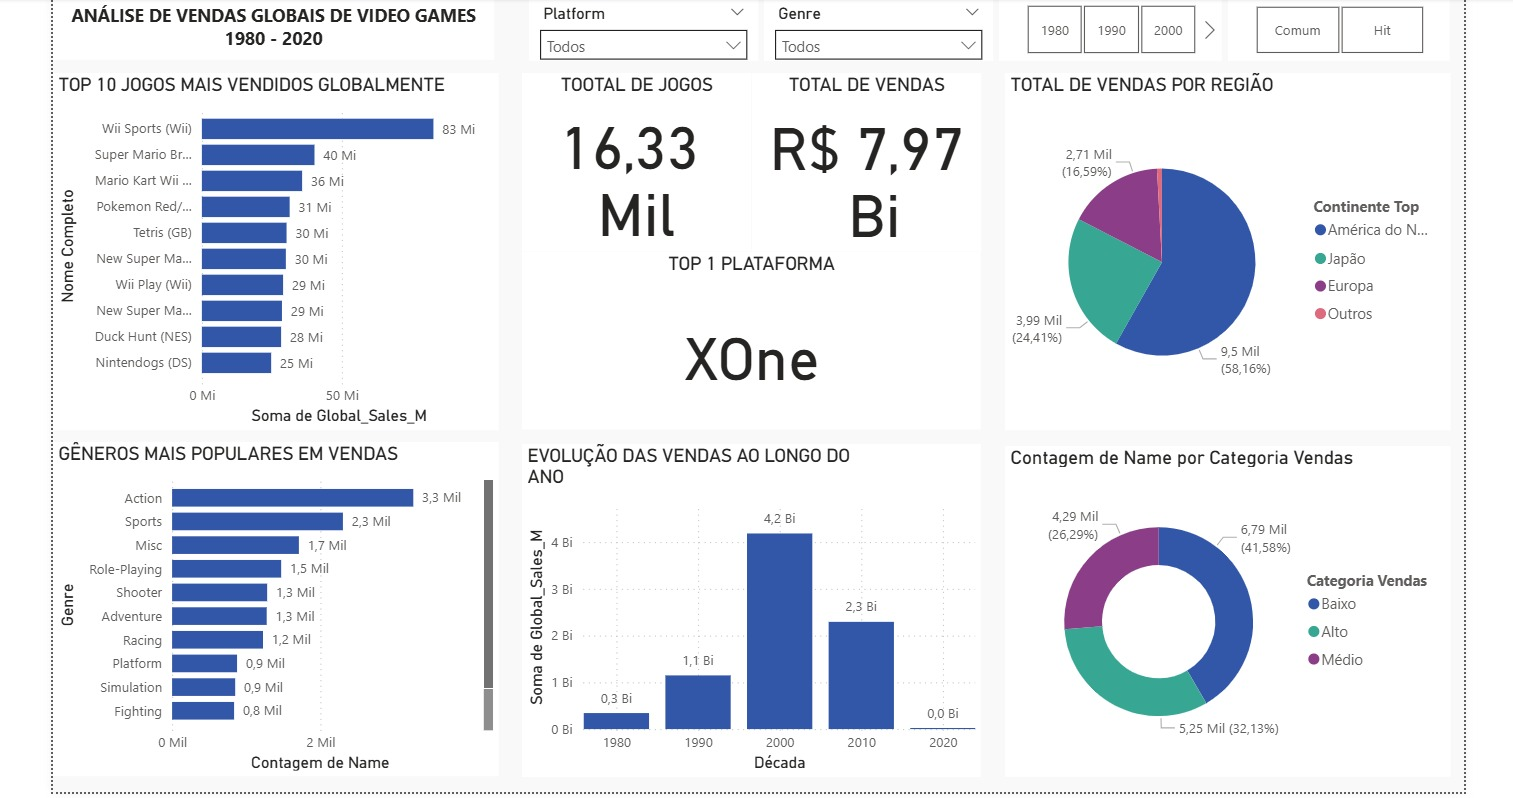

What the dashboard file says about the page in this screenshot:
{"tool":"powerbi","page":{"name":"Página 1","canvas":[1280,720],"ordinal":0},"visuals":[{"type":"barChart","title":"GÊNEROS MAIS POPULARES EM VENDAS","fields":{"Category":["video games sales.Gênero"],"Y":["CountNonNull(video games sales.Nome)"]},"box":[0,402.7,403.6,303.5],"z":0},{"type":"donutChart","fields":{"Y":["CountNonNull(video games sales.Nome)"],"Category":["video games sales.Categoria Vendas"]},"box":[863.7,406.5,403.6,299.6],"z":1000},{"type":"textbox","box":[0,0,400,56],"z":2000},{"type":"columnChart","title":"EVOLUÇÃO DAS VENDAS AO LONGO DO ANO","fields":{"Category":["video games sales.Década"],"Y":["Sum(video games sales.Global_Sales_M)"]},"box":[425.5,404.6,416.3,301.5],"z":3000},{"type":"slicer","fields":{"Values":["video games sales.Sucesso"]},"box":[1065.8,0.8,201.2,56.2],"z":4000,"group":"g2"},{"type":"barChart","title":"TOP 10 JOGOS MAIS VENDIDOS GLOBALMENTE","fields":{"Category":["video games sales.Nome Completo"],"Y":["Sum(video games sales.Global_Sales_M)"]},"box":[0,68.1,403.6,323.9],"z":4000},{"type":"pieChart","title":"TOTAL DE VENDAS POR REGIÃO","fields":{"Y":["CountNonNull(video games sales.Nome)"],"Category":["video games sales.Continente Top"]},"box":[863.7,68.1,403.6,323.9],"z":5000},{"type":"slicer","fields":{"Values":["video games sales.Década"]},"box":[858.4,0,202.2,57],"z":6000,"group":"g2"},{"type":"group","id":"g1","title":"Grupo 1","box":[425.5,68.1,416.3,323.9],"z":6000},{"type":"group","id":"g2","title":"Grupo 2","box":[432,0,835,57],"z":7000},{"type":"slicer","fields":{"Values":["video games sales.Gênero"]},"box":[645.2,0.8,208,56.2],"z":8000,"group":"g2"},{"type":"card","title":"TOP 1 PLATAFORMA","fields":{"Values":["video games sales.Plataforma Top"]},"box":[425.5,230.5,416.3,161.5],"z":9000,"group":"g1"},{"type":"slicer","fields":{"Values":["video games sales.Plataforma"]},"box":[432,0.8,208,56.2],"z":10000,"group":"g2"},{"type":"card","title":"TOTAL DE VENDAS","fields":{"Values":["Sum(video games sales.Global_Sales_M)"]},"box":[633.6,68.1,208.1,162.4],"z":11000,"group":"g1"},{"type":"card","title":"TOOTAL DE JOGOS","fields":{"Values":["CountNonNull(video games sales.Nome)"]},"box":[425.5,68.1,208.1,162.4],"z":12000,"group":"g1"}]}

Visuals, with their boxes on the page's 1280x720 design canvas (x1, y1, x2, y2). These are canvas units, not pixel positions in the 1513x798 screenshot, which may show the page scaled, cropped or inside an application window:
"GÊNEROS MAIS POPULARES EM VENDAS" barChart: bbox=[0, 403, 404, 706]
donutChart - CountNonNull(video games sales.Nome) x video games sales.Categoria Vendas: bbox=[864, 406, 1267, 706]
textbox: bbox=[0, 0, 400, 56]
"EVOLUÇÃO DAS VENDAS AO LONGO DO ANO" columnChart: bbox=[426, 405, 842, 706]
slicer - video games sales.Sucesso: bbox=[1066, 1, 1267, 57]
"TOP 10 JOGOS MAIS VENDIDOS GLOBALMENTE" barChart: bbox=[0, 68, 404, 392]
"TOTAL DE VENDAS POR REGIÃO" pieChart: bbox=[864, 68, 1267, 392]
slicer - video games sales.Década: bbox=[858, 0, 1061, 57]
"Grupo 1" group: bbox=[426, 68, 842, 392]
"Grupo 2" group: bbox=[432, 0, 1267, 57]
slicer - video games sales.Gênero: bbox=[645, 1, 853, 57]
"TOP 1 PLATAFORMA" card: bbox=[426, 230, 842, 392]
slicer - video games sales.Plataforma: bbox=[432, 1, 640, 57]
"TOTAL DE VENDAS" card: bbox=[634, 68, 842, 230]
"TOOTAL DE JOGOS" card: bbox=[426, 68, 634, 230]
